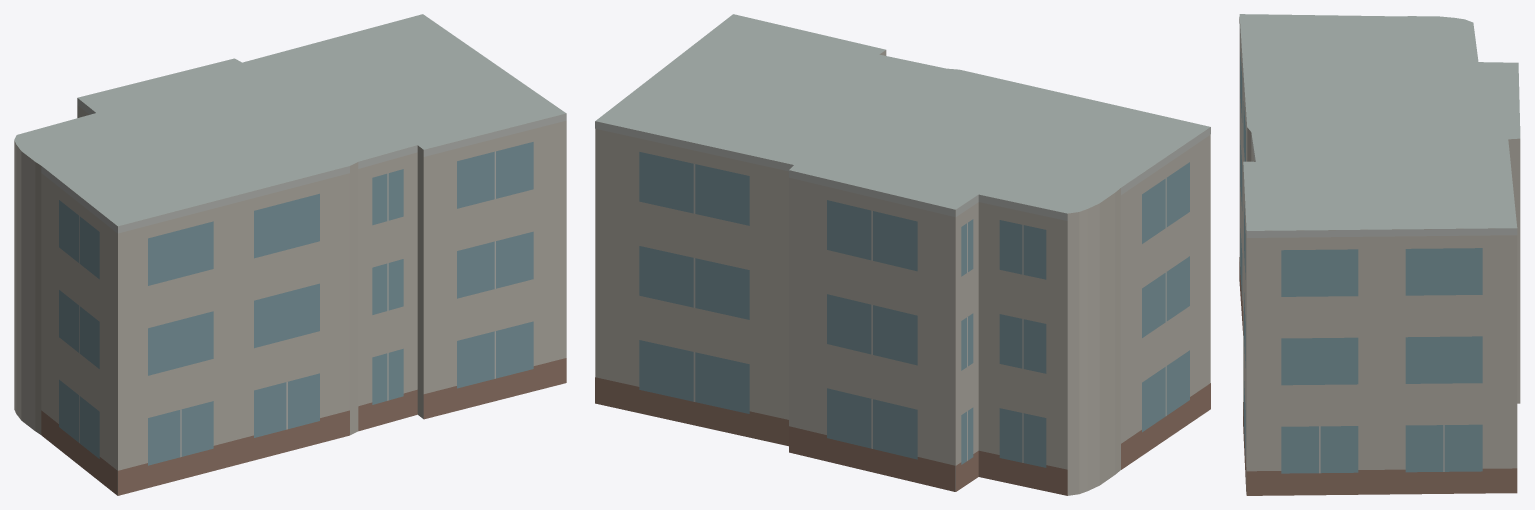
Rendered from survey-upis-32603476.glb.
The picture shows the model from 3 angles, left to right: view 1: azimuth 30°, elevation 25°; view 2: azimuth 150°, elevation 25°; view 3: azimuth 270°, elevation 25°; orthographic projection. The views are drawn at different scales.
Parts seen in each view (by area): view 1: survey-upis-32603476.tmp; view 2: survey-upis-32603476.tmp; view 3: survey-upis-32603476.tmp.
Part boxes in pixels (left/top/right/bottom): survey-upis-32603476.tmp: left=14, top=14, right=566, bottom=495; survey-upis-32603476.tmp: left=595, top=14, right=1210, bottom=495; survey-upis-32603476.tmp: left=1239, top=14, right=1520, bottom=495.
Bounding box in the file's own units: 16.08 × 9.15 × 8.81.
